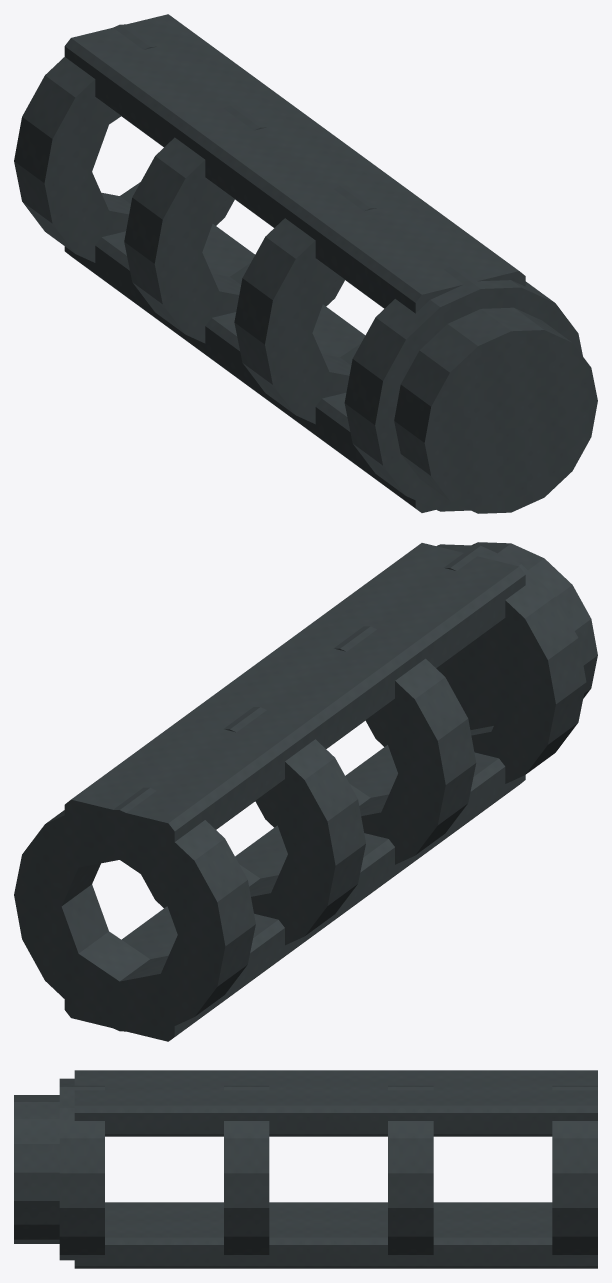
Rendered from ak12_brake.glb.
3 views of the same model, one above another, from view 1: azimuth 30°, elevation 25°; view 2: azimuth 150°, elevation 25°; view 3: azimuth 270°, elevation 25° (orthographic). The views are drawn at different scales.
Visible parts, largest first — view 1: ak12_brake_external_port_ring, ak12_brake_external_port_ring.004; view 2: ak12_brake_external_port_ring, ak12_brake_external_port_ring.004; view 3: ak12_brake_external_port_ring.
Boxes of the visible parts, x1,y1,x2,y2 form: ak12_brake_external_port_ring: (14, 14, 597, 513); ak12_brake_external_port_ring.004: (45, 47, 597, 511); ak12_brake_external_port_ring: (14, 542, 597, 1041); ak12_brake_external_port_ring.004: (14, 568, 555, 1030); ak12_brake_external_port_ring: (14, 1070, 597, 1268).
Bounding box in the file's own units: 0.048 × 0.048 × 0.154.
1 material, 1 textured.
